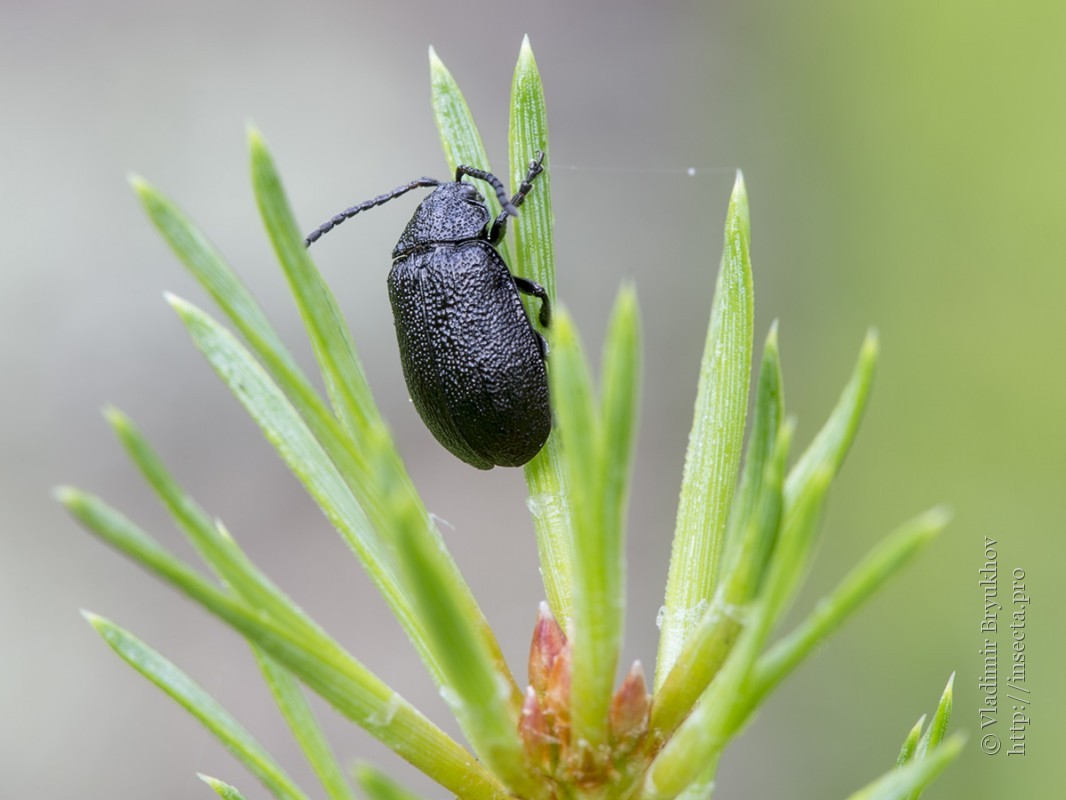Galeruca_tanaceti: (291, 142, 563, 479)
